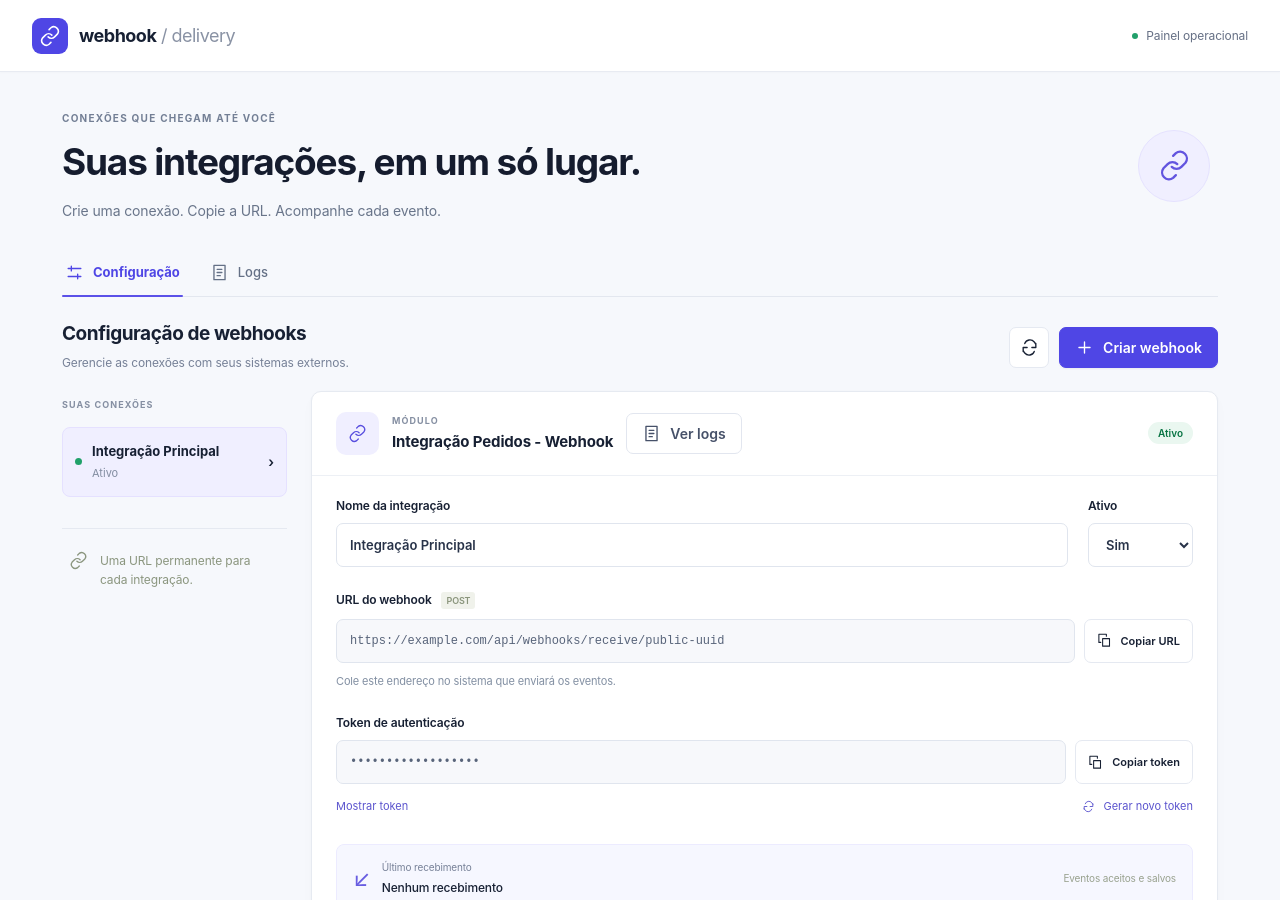
painel operacional › exige confirmação antes de regenerar token e permite cancelar
This screenshot has width=1280, height=900.
Click the button "Gerar novo token".
click(1137, 806)  # box [1082,791,1193,821]
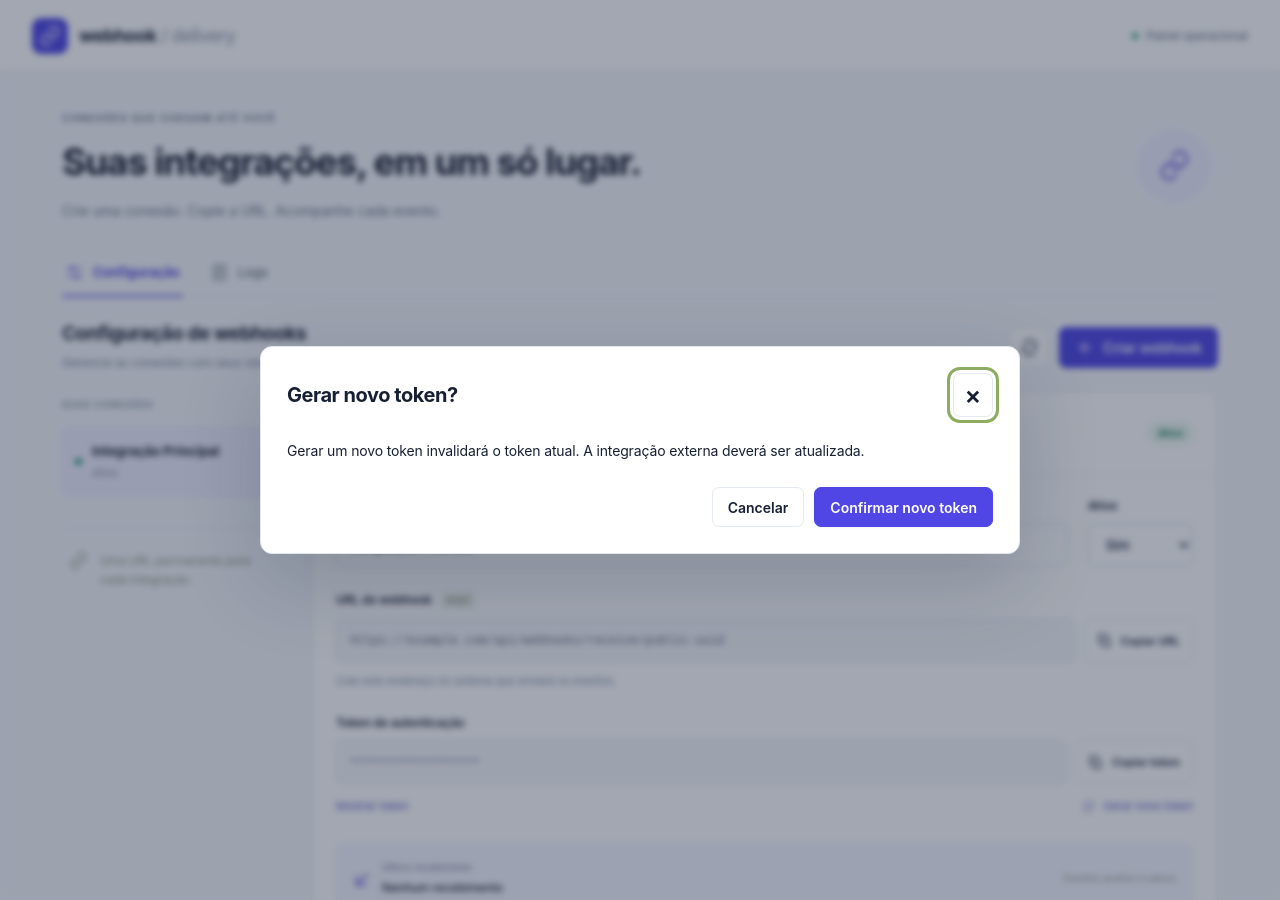
Result: the dialog shows "invalidará o token atual" at [287,442,864,459]
Click the button "Cancelar".
click(758, 507)  # box [712,487,804,527]
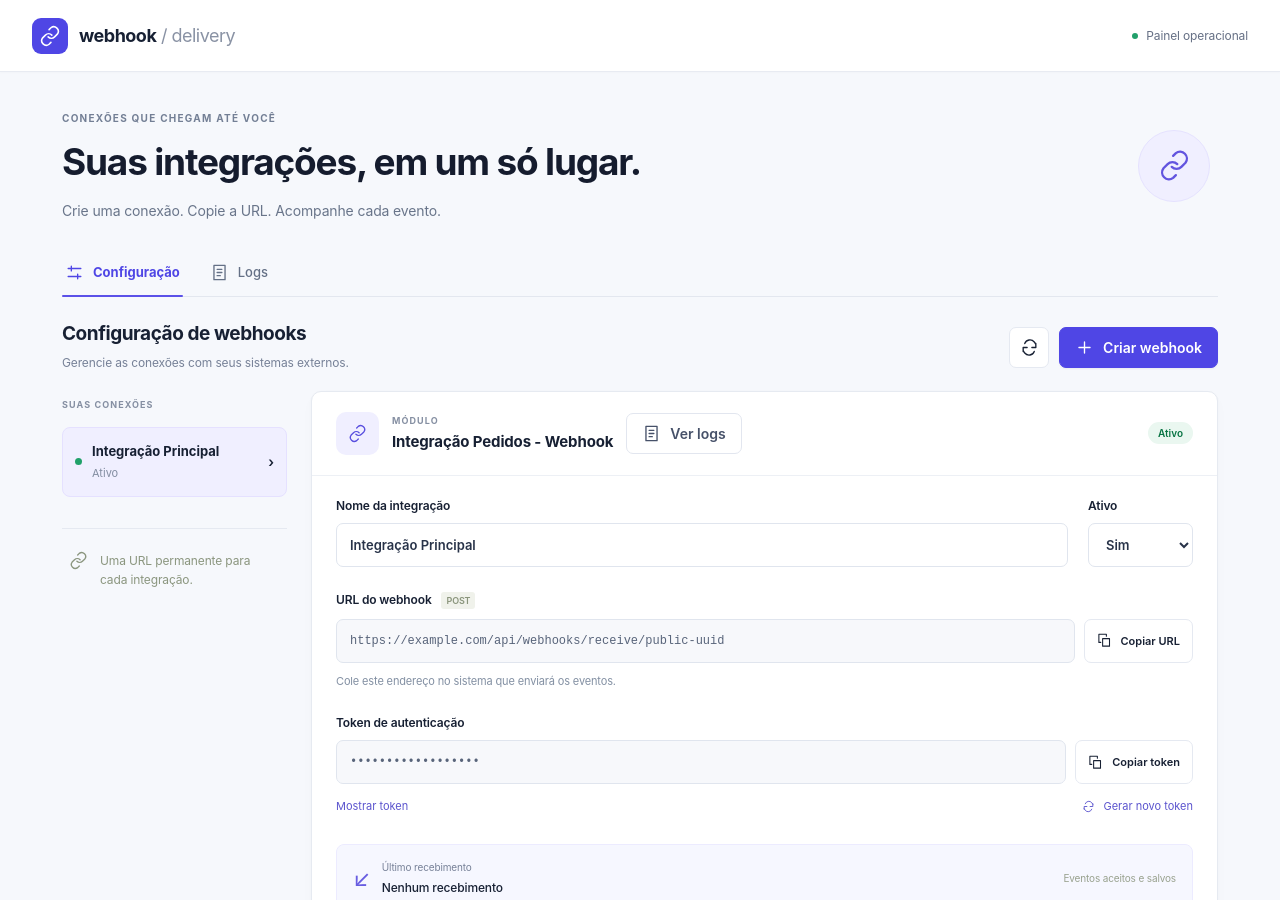
Click the button "Gerar novo token".
click(1137, 806)  # box [1082,791,1193,821]
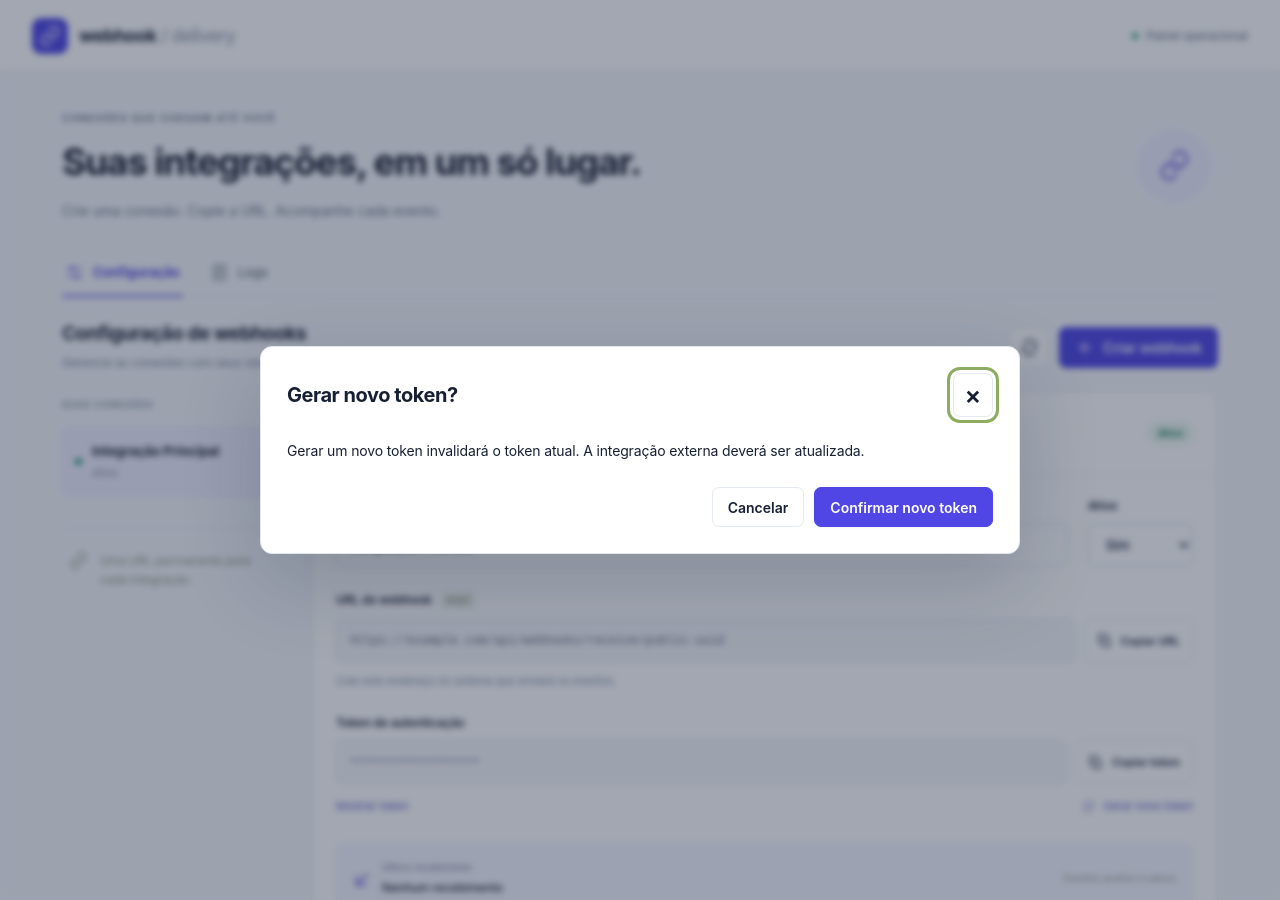
Click the button "Confirmar novo token".
click(904, 507)  # box [814,487,993,527]
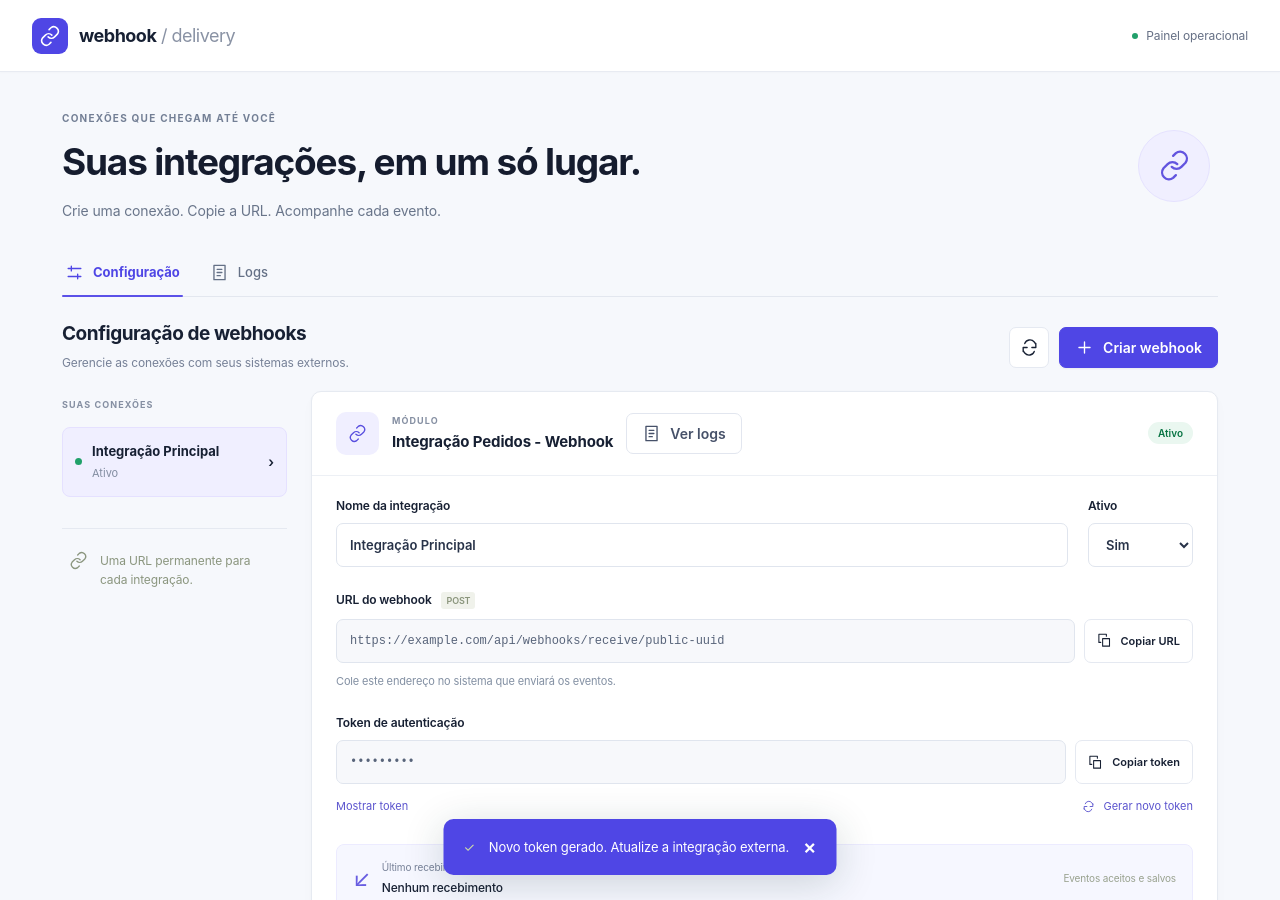
Result: the password field labelled "Token de autenticação" holds "new-token" at [336,740,1066,784]
